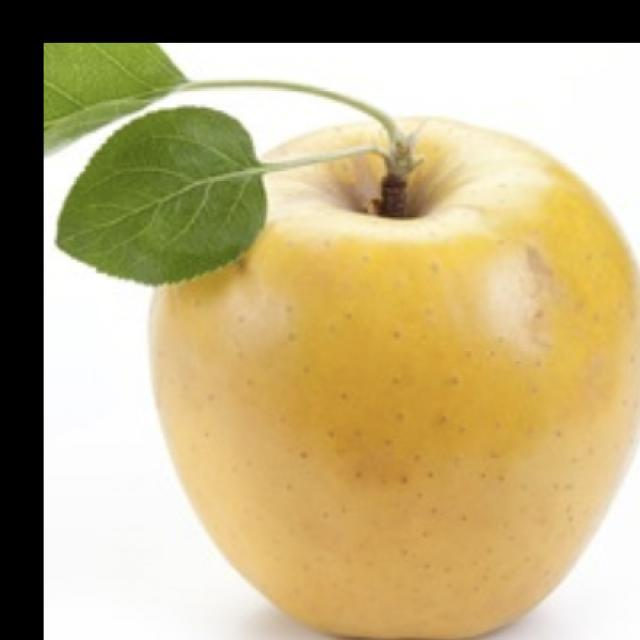Fresh Apple: (195, 128, 640, 640)
